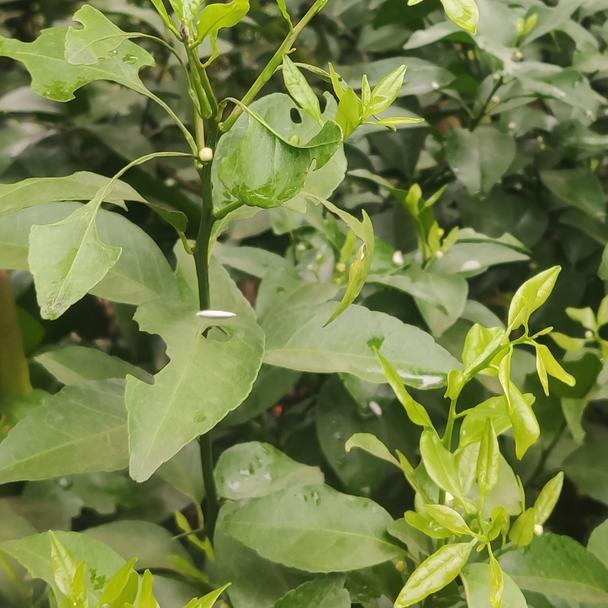shoot: (376, 267, 577, 464), (405, 452, 546, 601)
